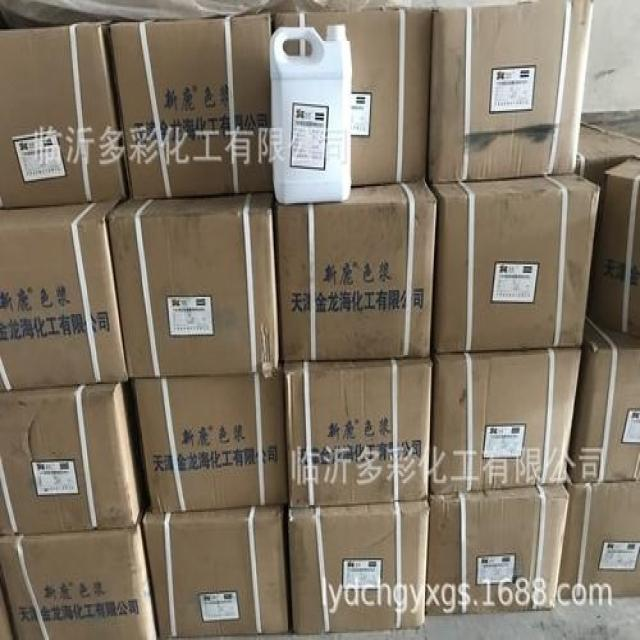box: (106, 195, 279, 377), (428, 0, 595, 183), (430, 174, 599, 350), (110, 12, 271, 196), (274, 181, 436, 360), (0, 22, 128, 208), (0, 203, 128, 389), (430, 346, 581, 493), (284, 358, 431, 507), (0, 382, 141, 534), (134, 372, 287, 512), (142, 503, 289, 640), (289, 500, 429, 635), (426, 485, 570, 616), (0, 522, 157, 640), (568, 314, 640, 485), (557, 480, 640, 602), (589, 157, 640, 336)
